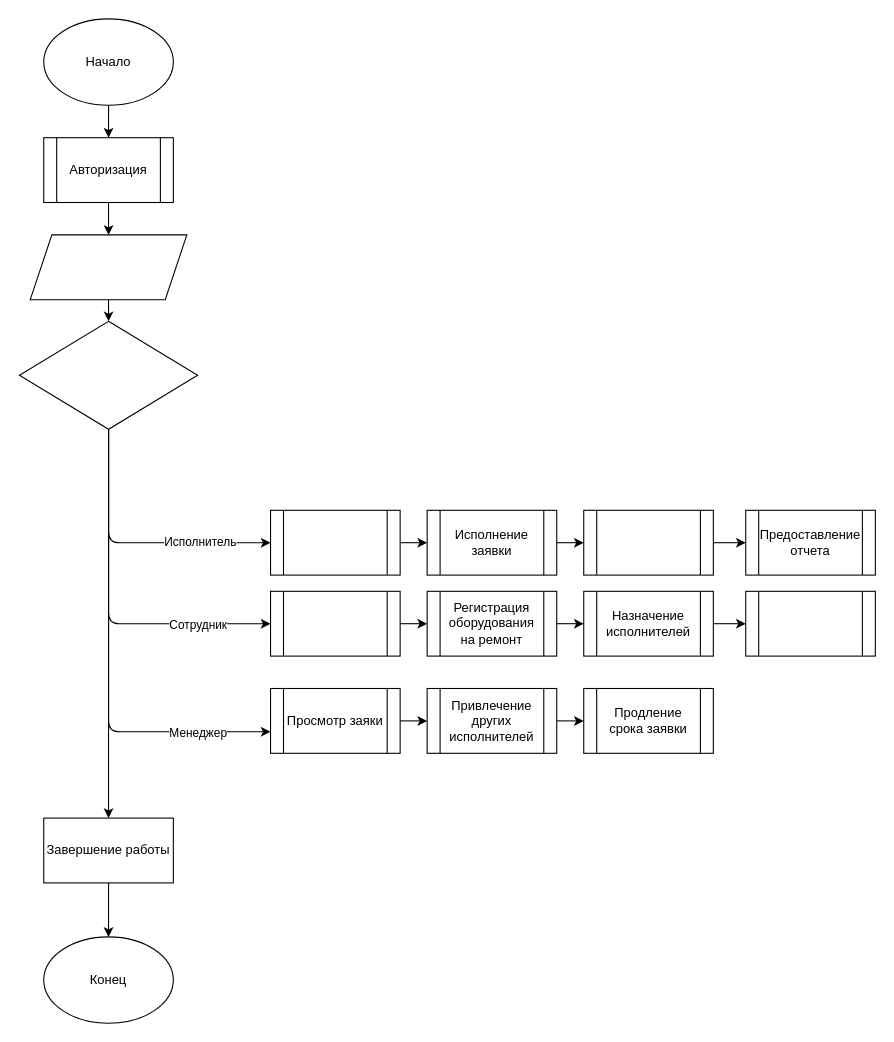
Some shapes in this 894 by 1042 pixel diagram are drawn without their labels. Here are the shapes that lost their labels. From the top down, the centre of each, then its label:
At point (108, 267): "Ввод пользователя".
At point (108, 374): "Разделение по роли".
At point (334, 542): "Обработка заявки".
At point (648, 542): "Изменение статуса заявки".
At point (334, 623): "Регистрация заявки".
At point (810, 623): "Редактирование заявки".
